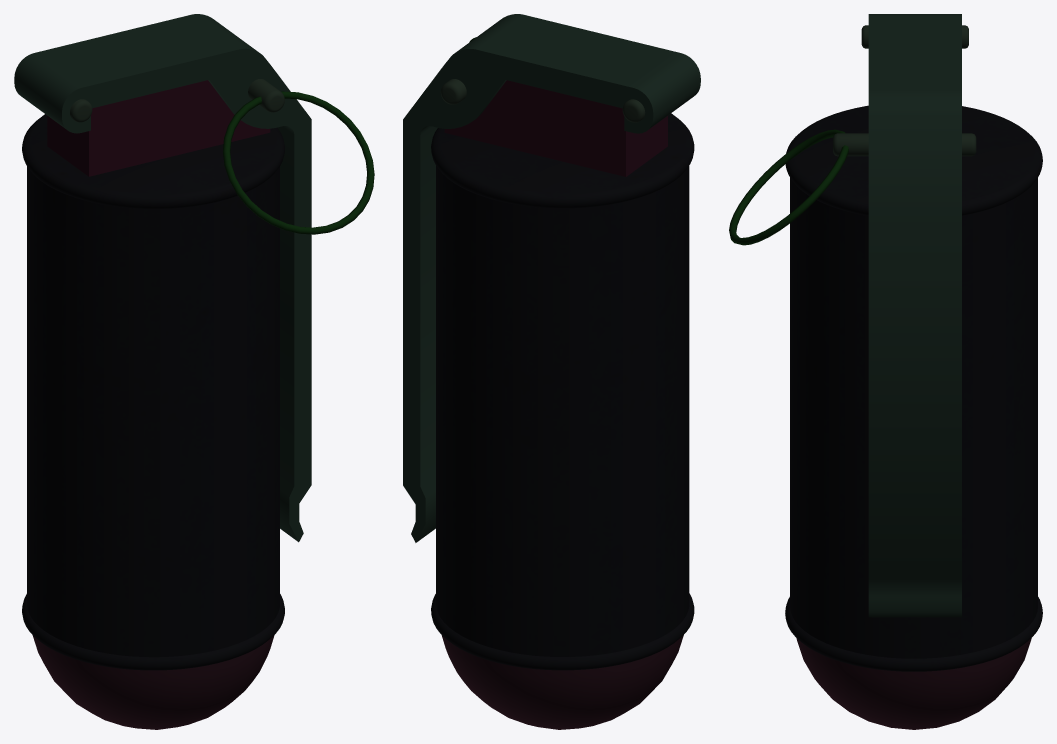
Rendered from smoke_granade.glb.
3 renders of one model, left to right at view 1: azimuth 30°, elevation 25°; view 2: azimuth 150°, elevation 25°; view 3: azimuth 270°, elevation 25°, orthographic. The views are drawn at different scales.
Visible parts, largest first — view 1: Granade_0; view 2: Granade_0; view 3: Granade_0.
Boxes of the visible parts, x1,y1,x2,y2 form: Granade_0: [14, 14, 374, 729]; Granade_0: [403, 14, 700, 729]; Granade_0: [729, 14, 1042, 729].
Bounding box in the file's own units: 1.69 × 4.06 × 1.76.
Materials: 1 (1 with a texture image).
